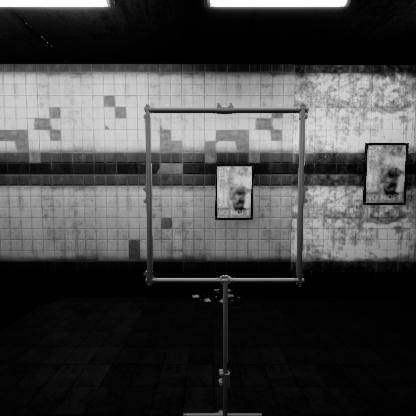gate: (145, 130, 323, 310)
